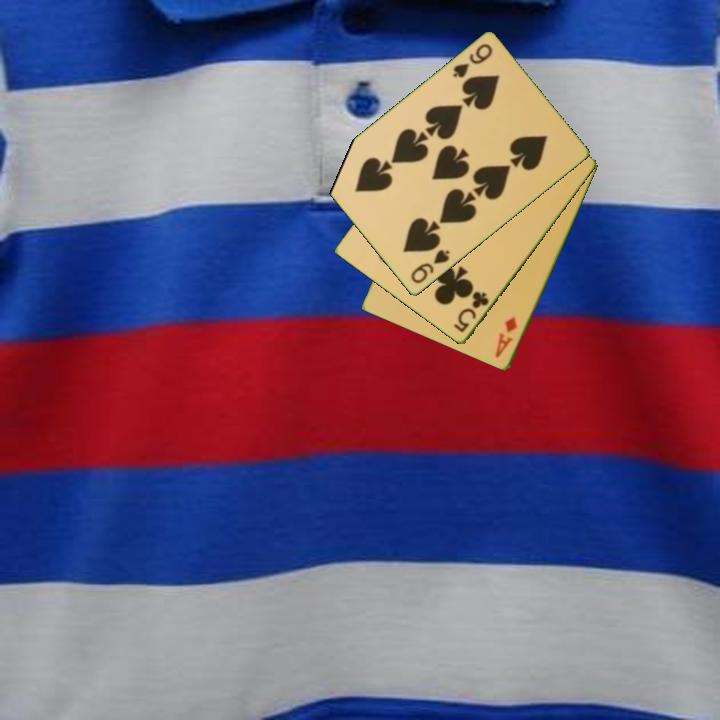5c: (450, 288, 492, 336)
9s: (449, 40, 496, 81), (407, 246, 453, 287)
Ad: (492, 313, 520, 361)
